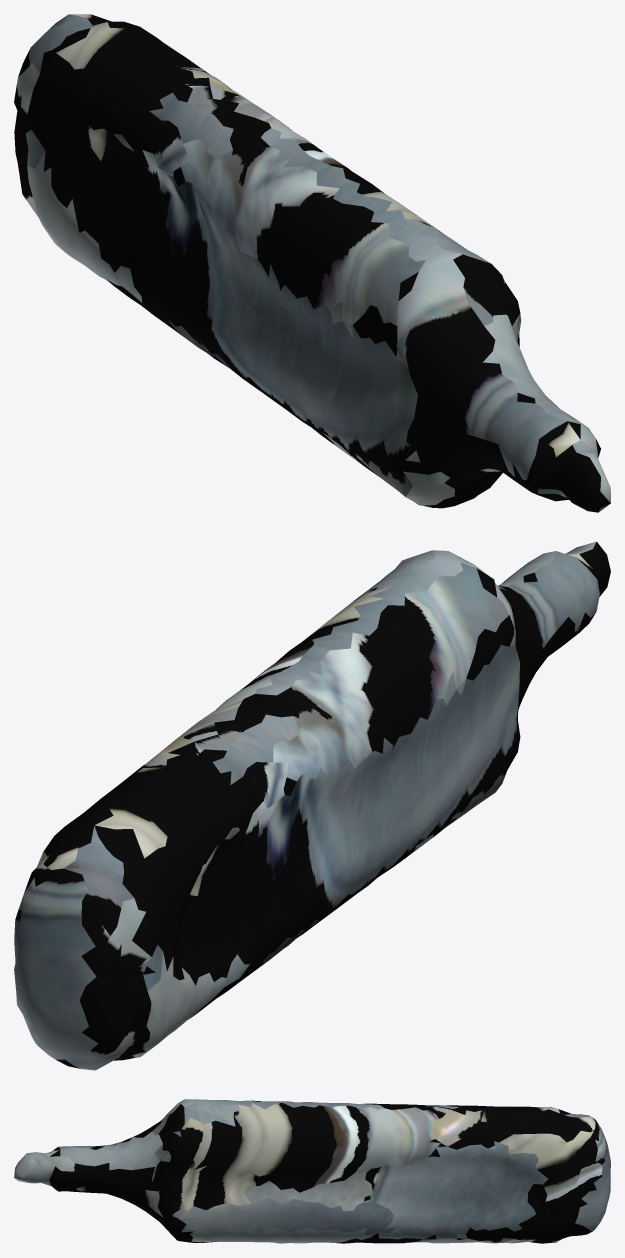
The model's file is scan_align.obj.
The picture shows the model from 3 angles, top to bottom: view 1: azimuth 30°, elevation 25°; view 2: azimuth 150°, elevation 25°; view 3: azimuth 270°, elevation 25°; orthographic projection. The views are drawn at different scales.
Size of the model in its own units: 0.0135 by 0.0257 by 0.1008.
